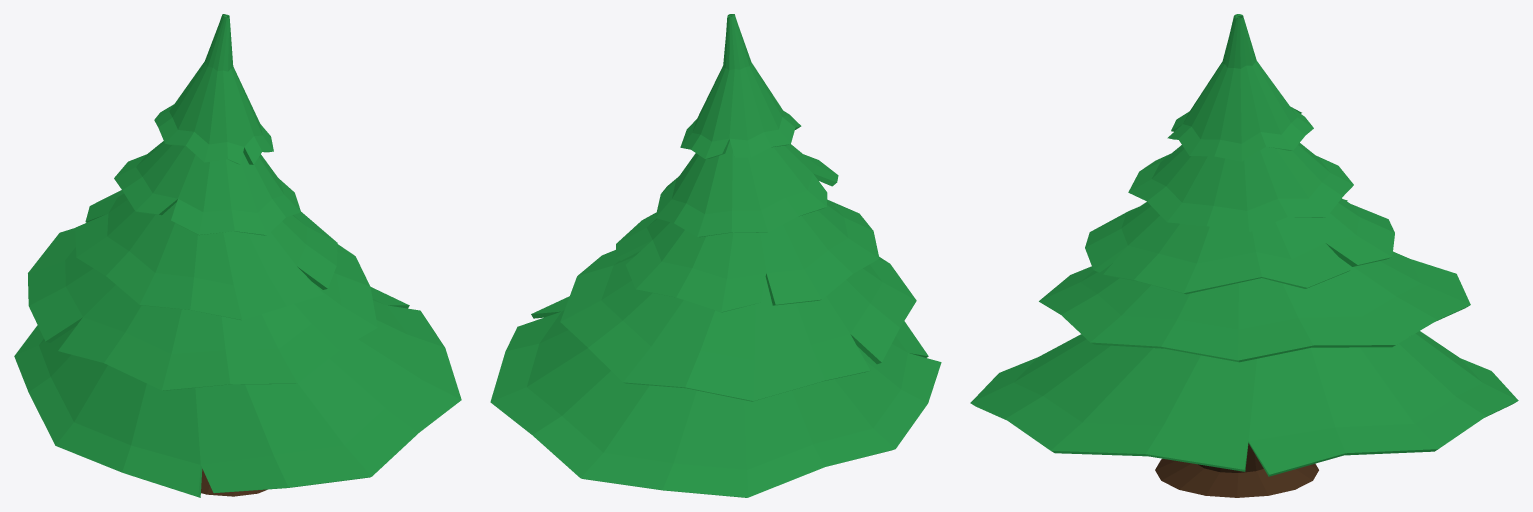
The model's file is Tannenbaum3.fbx.
3 renders of one model, left to right at view 1: azimuth 30°, elevation 25°; view 2: azimuth 150°, elevation 25°; view 3: azimuth 270°, elevation 25°, orthographic. The views are drawn at different scales.
Parts seen in each view (by area): view 1: Cylinder; view 2: Cylinder; view 3: Cylinder.
Boxes of the visible parts, x1,y1,x2,y2 form: Cylinder: [14, 14, 461, 497]; Cylinder: [490, 14, 941, 497]; Cylinder: [970, 14, 1518, 497].
Size of the model in its own units: 299 by 349 by 378.
